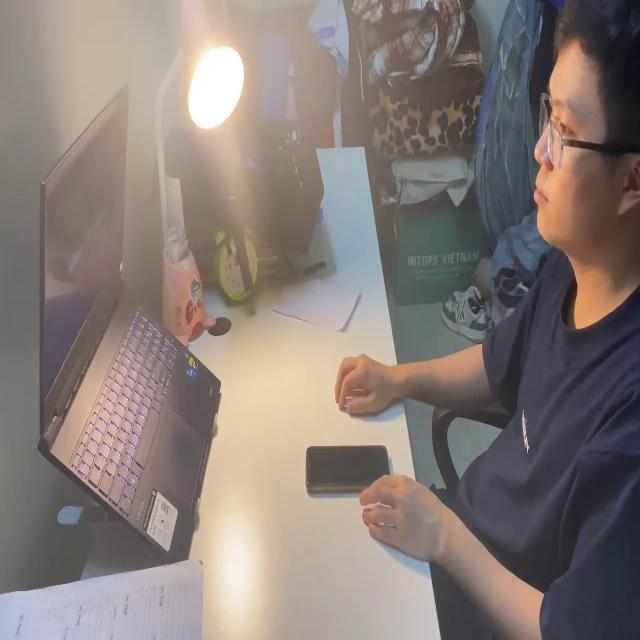book: (0, 553, 206, 640), (268, 267, 364, 342)
laptop: (33, 74, 215, 561)
phone: (304, 446, 392, 496)
student: (331, 0, 640, 640)
